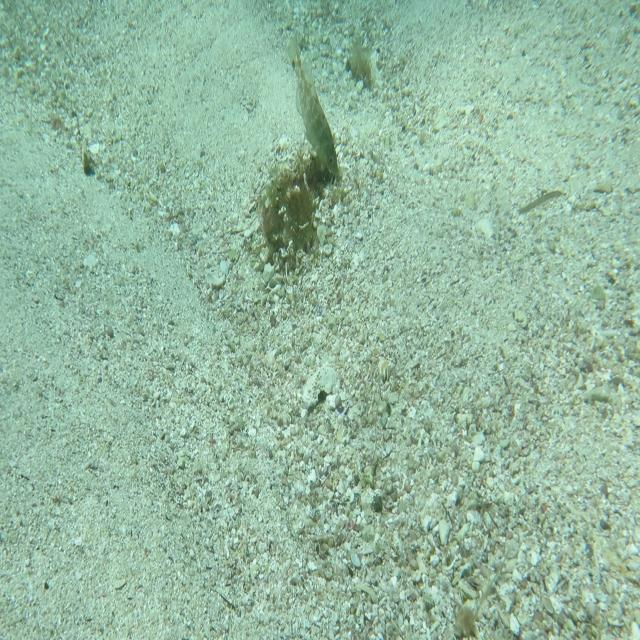NIP_IN: (286, 33, 341, 179)
core_nest: (294, 159, 329, 194)
nest: (256, 151, 335, 286)
vegetation: (348, 44, 375, 100), (516, 187, 564, 215), (450, 597, 480, 640), (84, 147, 96, 176)
